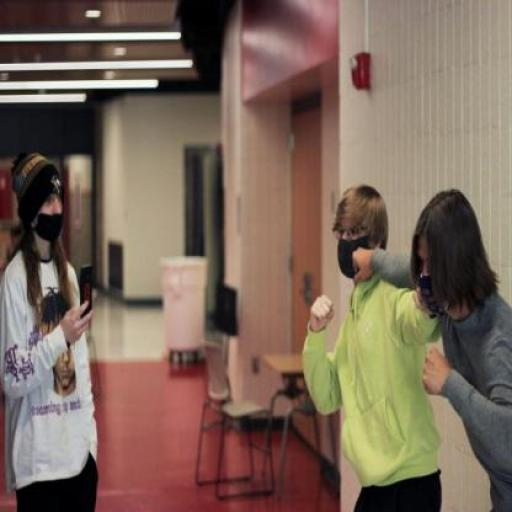Fighting: (307, 177, 509, 512)
